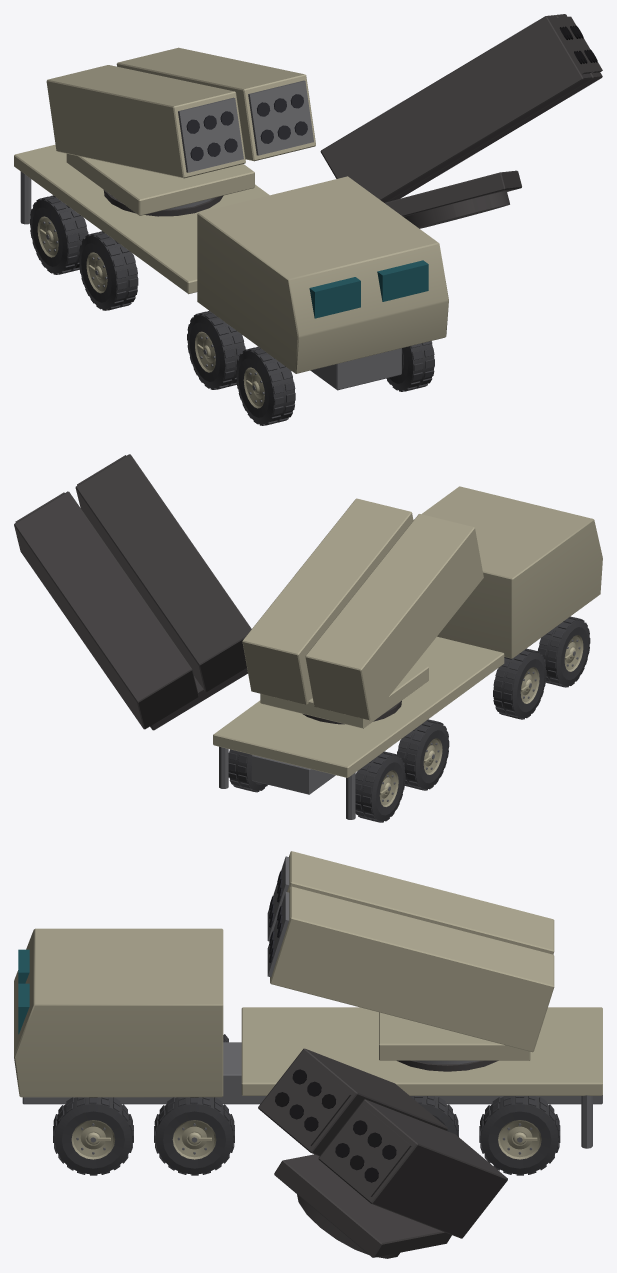
File: himars__guided_pinaka.glb
The picture shows the model from 3 angles, top to bottom: view 1: azimuth 30°, elevation 25°; view 2: azimuth 150°, elevation 25°; view 3: azimuth 270°, elevation 25°; orthographic projection. The views are drawn at different scales.
Visible parts, largest first — view 1: Hull_Mesh, Wreck, Gun_Mesh, Turret_Mesh, Wheel_L1_Mesh, Wheel_L3_Mesh, Wheel_L0_Mesh, Wheel_L2_Mesh, Wheel_R3_Mesh; view 2: Wreck, Hull_Mesh, Gun_Mesh, Wheel_L2_Mesh, Wheel_L0_Mesh, Wheel_L1_Mesh, Wheel_L3_Mesh, Turret_Mesh, Wheel_R0_Mesh; view 3: Hull_Mesh, Gun_Mesh, Wreck, Wheel_R0_Mesh, Wheel_R2_Mesh, Wheel_R3_Mesh, Turret_Mesh, Wheel_R1_Mesh.
Boxes of the visible parts, x1,y1,x2,y2 form: Hull_Mesh: (14,144,448,390); Wreck: (47,14,602,422); Gun_Mesh: (46,47,315,178); Turret_Mesh: (66,154,254,215); Wheel_L1_Mesh: (78,231,138,310); Wheel_L3_Mesh: (236,346,295,425); Wheel_L0_Mesh: (30,195,88,274); Wheel_L2_Mesh: (187,310,245,389); Wheel_R3_Mesh: (386,341,434,391); Wreck: (14,454,572,819); Hull_Mesh: (213,486,602,819); Gun_Mesh: (242,498,483,720); Wheel_L2_Mesh: (493,648,546,719); Wheel_L0_Mesh: (355,751,405,822); Wheel_L1_Mesh: (397,719,449,790); Wheel_L3_Mesh: (538,616,590,687); Turret_Mesh: (260,663,428,728); Wheel_R0_Mesh: (228,749,267,792); Hull_Mesh: (14,928,602,1148); Gun_Mesh: (267,851,554,1052); Wreck: (102,1048,535,1258); Wheel_R0_Mesh: (479,1096,560,1175); Wheel_R2_Mesh: (154,1097,234,1175); Wheel_R3_Mesh: (53,1097,133,1175); Turret_Mesh: (379,1012,530,1064); Wheel_R1_Mesh: (410,1096,458,1136).
Size of what is drawn, in the model's own units: 7.98 by 3.84 by 8.15.
